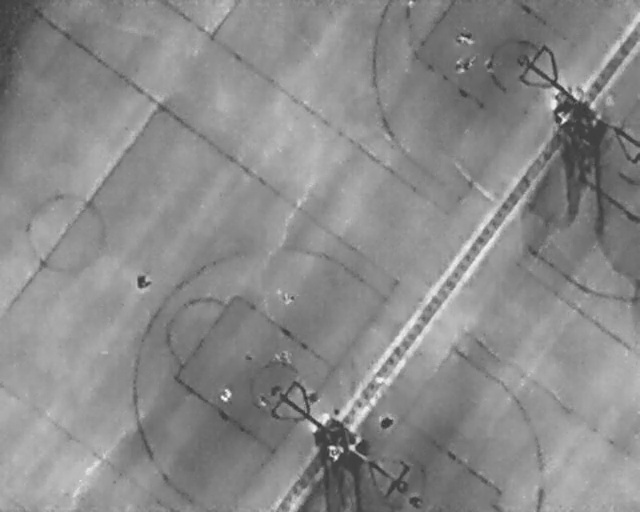Person: (450, 52, 478, 74), (453, 26, 479, 49), (375, 412, 396, 433), (216, 385, 235, 405), (253, 391, 271, 410), (273, 351, 292, 367), (135, 274, 152, 291), (484, 57, 494, 75), (283, 292, 295, 305), (306, 390, 319, 402)
